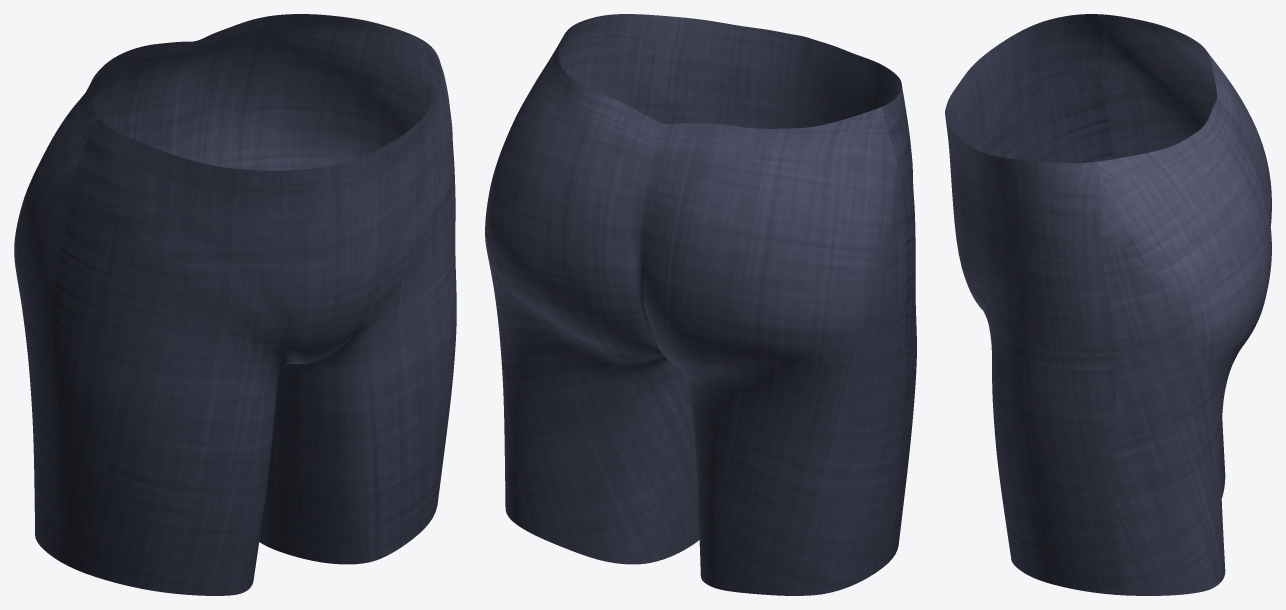
Rendered from Zubon01.fbx.
3 renders of one model, left to right at view 1: azimuth 30°, elevation 25°; view 2: azimuth 150°, elevation 25°; view 3: azimuth 270°, elevation 25°, orthographic. The views are drawn at different scales.
Parts seen in each view (by area): view 1: Zubon01; view 2: Zubon01; view 3: Zubon01.
Boxes of the visible parts, <box> form: Zubon01: <box>14,14,456,595</box>; Zubon01: <box>485,14,916,595</box>; Zubon01: <box>945,14,1271,595</box>.
Bounding box in the file's own units: 31.2 × 35.93 × 23.67.
